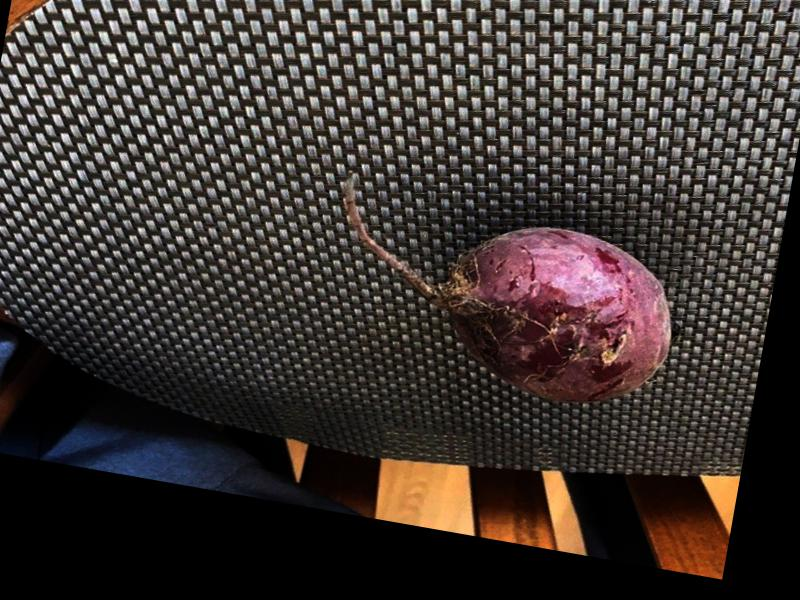Beet: (313, 171, 686, 419)
